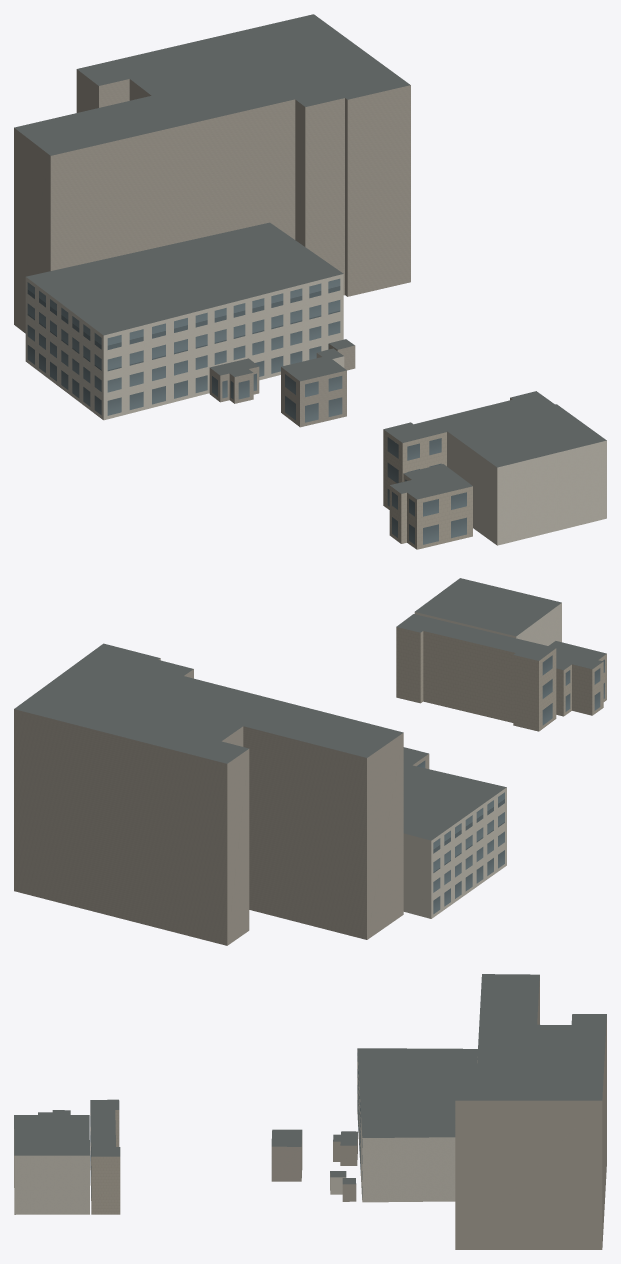
3 views of the same model, one above another, from view 1: azimuth 30°, elevation 25°; view 2: azimuth 150°, elevation 25°; view 3: azimuth 270°, elevation 25° (orthographic). The views are drawn at different scales.
Visible parts, largest first — view 1: cell-e007-n001_base_tile-wall, cell-e007-n001_base_roof, cell-e007-n001_base_plaster, cell-e007-n001_base_glass, cell-e007-n001_base_stone; view 2: cell-e007-n001_base_tile-wall, cell-e007-n001_base_roof, cell-e007-n001_base_stone, cell-e007-n001_base_plaster, cell-e007-n001_base_glass; view 3: cell-e007-n001_base_roof, cell-e007-n001_base_tile-wall, cell-e007-n001_base_plaster, cell-e007-n001_base_stone.
Boxes of the visible parts, <box> form: cell-e007-n001_base_tile-wall: <box>14,69,410,427</box>; cell-e007-n001_base_roof: <box>14,14,606,499</box>; cell-e007-n001_base_plaster: <box>25,274,606,545</box>; cell-e007-n001_base_glass: <box>27,278,466,544</box>; cell-e007-n001_base_stone: <box>383,398,512,549</box>; cell-e007-n001_base_tile-wall: <box>14,658,429,945</box>; cell-e007-n001_base_roof: <box>14,578,606,840</box>; cell-e007-n001_base_stone: <box>396,627,606,731</box>; cell-e007-n001_base_plaster: <box>403,603,561,918</box>; cell-e007-n001_base_glass: <box>417,655,604,914</box>; cell-e007-n001_base_roof: <box>14,974,606,1184</box>; cell-e007-n001_base_tile-wall: <box>271,975,606,1249</box>; cell-e007-n001_base_plaster: <box>14,1050,477,1214</box>; cell-e007-n001_base_stone: <box>90,1110,120,1214</box>.
Size of the model in its own units: 50.72 by 25.68 by 92.46.
5 materials, 4 textured.
